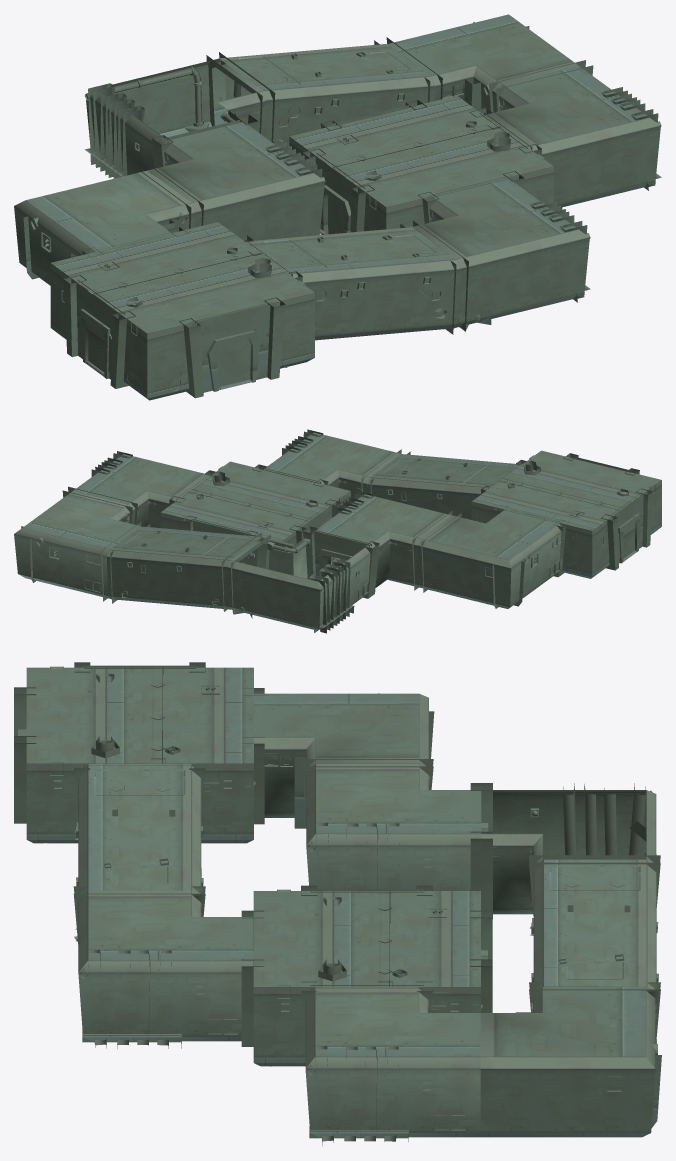
Rendered from Combined_Mesh_root_scene__4_e0ea2853__zombies2_diffuse_09_d56e2e54_c1f257.obj.
The picture shows the model from 3 angles, top to bottom: view 1: azimuth 30°, elevation 25°; view 2: azimuth 150°, elevation 25°; view 3: azimuth 270°, elevation 25°; orthographic projection. The views are drawn at different scales.
Bounding box in the file's own units: 76.84 × 12.64 × 57.04.
170 materials, 170 textured.
